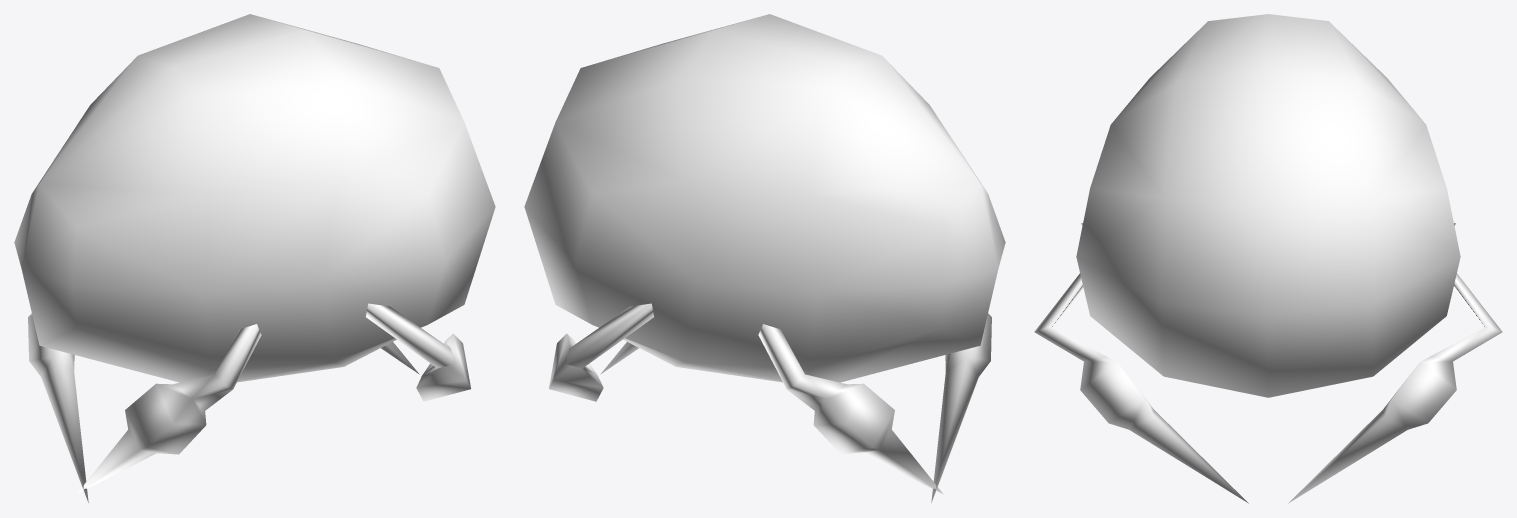
The model's file is mon_boomber_walk.FBX.
3 renders of one model, left to right at view 1: azimuth 30°, elevation 25°; view 2: azimuth 150°, elevation 25°; view 3: azimuth 270°, elevation 25°, orthographic. The views are drawn at different scales.
Parts seen in each view (by area): view 1: Object001asd003; view 2: Object001asd003; view 3: Object001asd003.
Boxes of the visible parts, x1,y1,x2,y2 form: Object001asd003: (14,14,495,502); Object001asd003: (524,14,1005,502); Object001asd003: (1034,14,1502,503).
Size of the model in its own units: 77.01 by 71.28 by 67.82.
1 material, 1 textured.
